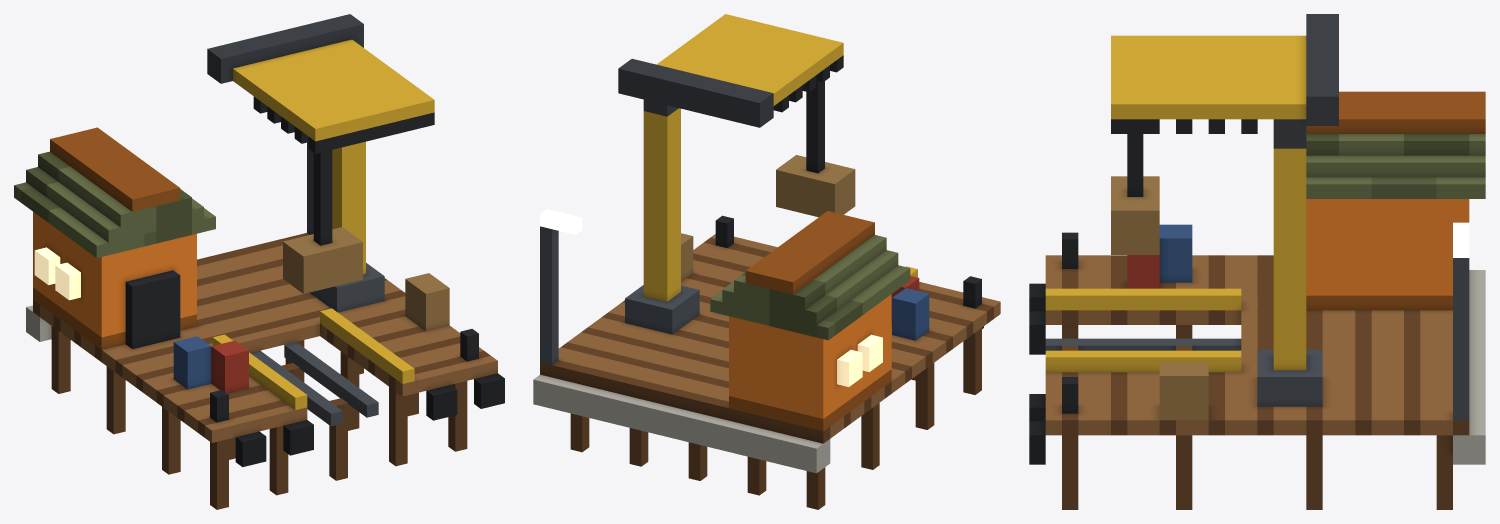
File: cm_dock_5.glb
3 views of the same model, side by side, from view 1: azimuth 30°, elevation 25°; view 2: azimuth 150°, elevation 25°; view 3: azimuth 270°, elevation 25° (orthographic). The views are drawn at different scales.
Parts seen in each view (by area): view 1: cm_dock_5_body; view 2: cm_dock_5_body; view 3: cm_dock_5_body.
Boxes of the visible parts, <box> form: cm_dock_5_body: <box>14,14,504,509</box>; cm_dock_5_body: <box>533,14,1000,509</box>; cm_dock_5_body: <box>1029,14,1485,509</box>.
Bounding box in the file's own units: 1.56 × 1.75 × 1.75.
1 material, 1 textured.
